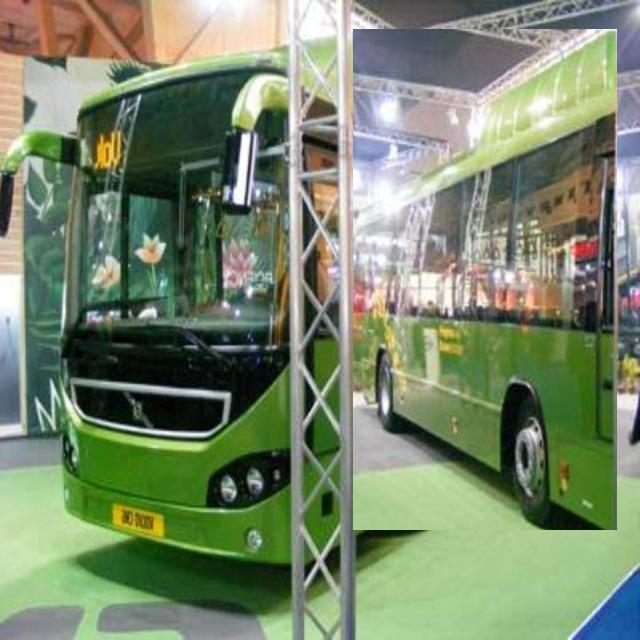bus: (0, 48, 291, 562), (353, 30, 616, 530)
